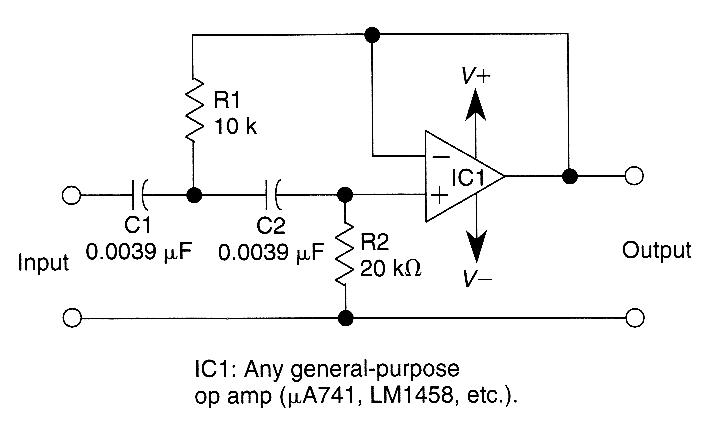amplifier: (416, 124, 511, 228)
cap2: (125, 175, 153, 216), (259, 173, 287, 214)
res2: (331, 215, 356, 294), (182, 72, 206, 147)
